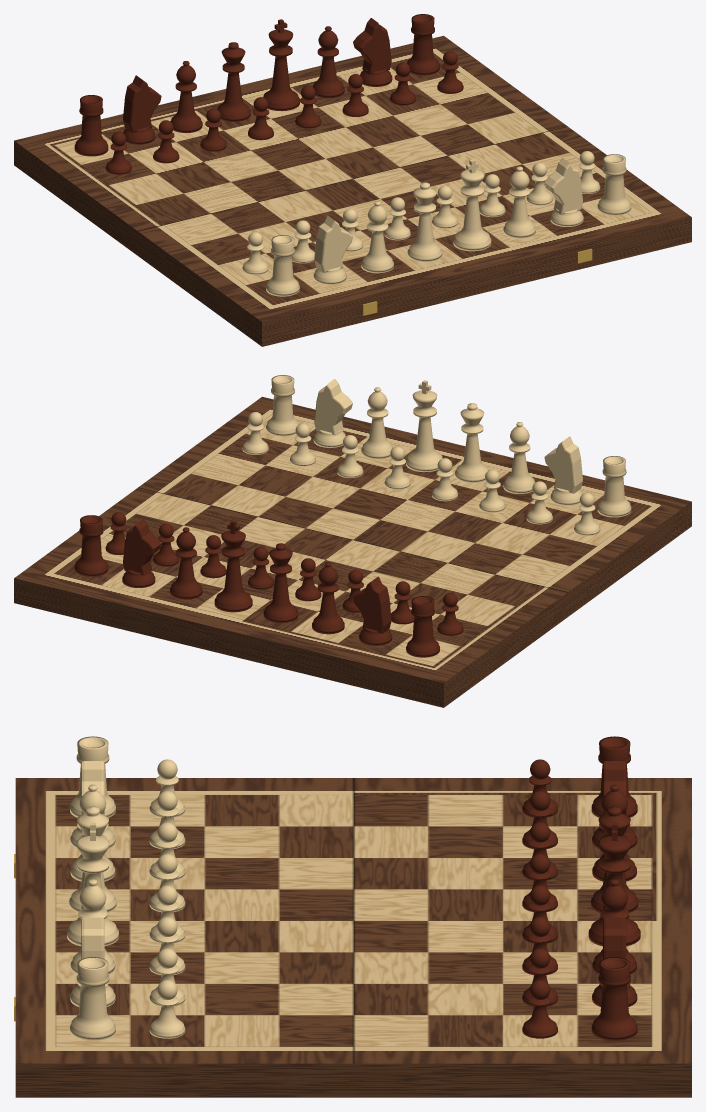
Rendered from philidor-3d-noyer-pliable-49.glb.
The picture shows the model from 3 angles, top to bottom: view 1: azimuth 30°, elevation 25°; view 2: azimuth 150°, elevation 25°; view 3: azimuth 270°, elevation 25°; orthographic projection. The views are drawn at different scales.
Visible parts, largest first — view 1: noyer-pliable-49; view 2: noyer-pliable-49; view 3: noyer-pliable-49.
Boxes of the visible parts, x1=… form: noyer-pliable-49: x1=14, y1=14, x2=691, y2=346; noyer-pliable-49: x1=14, y1=375, x2=691, y2=707; noyer-pliable-49: x1=14, y1=736, x2=691, y2=1097.
Size of what is drawn, in the model's own units: 0.49 by 0.1169 by 0.4912.
Materials: 5 (2 with a texture image).
